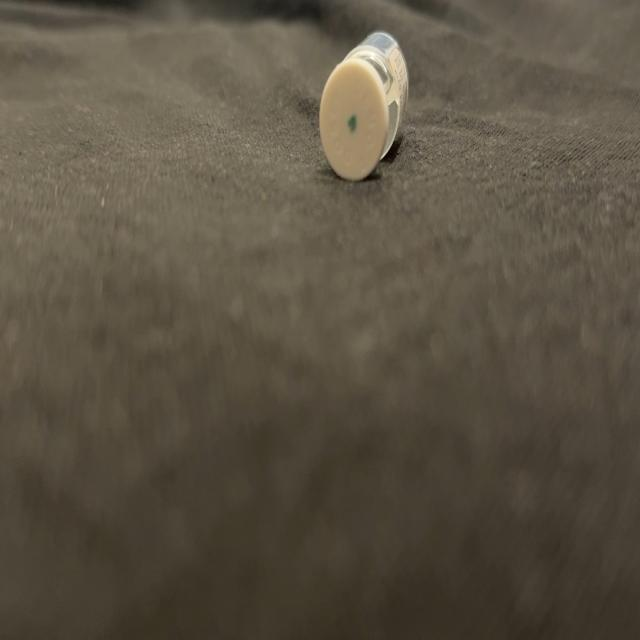fentanl_citrat: (320, 33, 407, 179)
